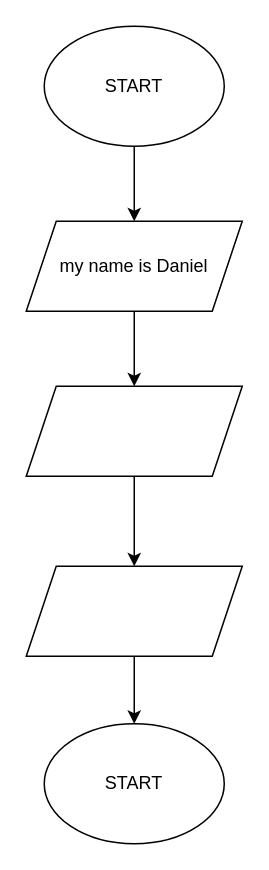
This 269x870 diagram has some shape labels left out. The shapes that lost their labels are listed below. From the top down, each one's box as (x1, y1, x2, y2) in pixels, then its label:
(25, 385, 242, 476): I live in Ness Zionna
(25, 565, 242, 656): "I love playing padel"
